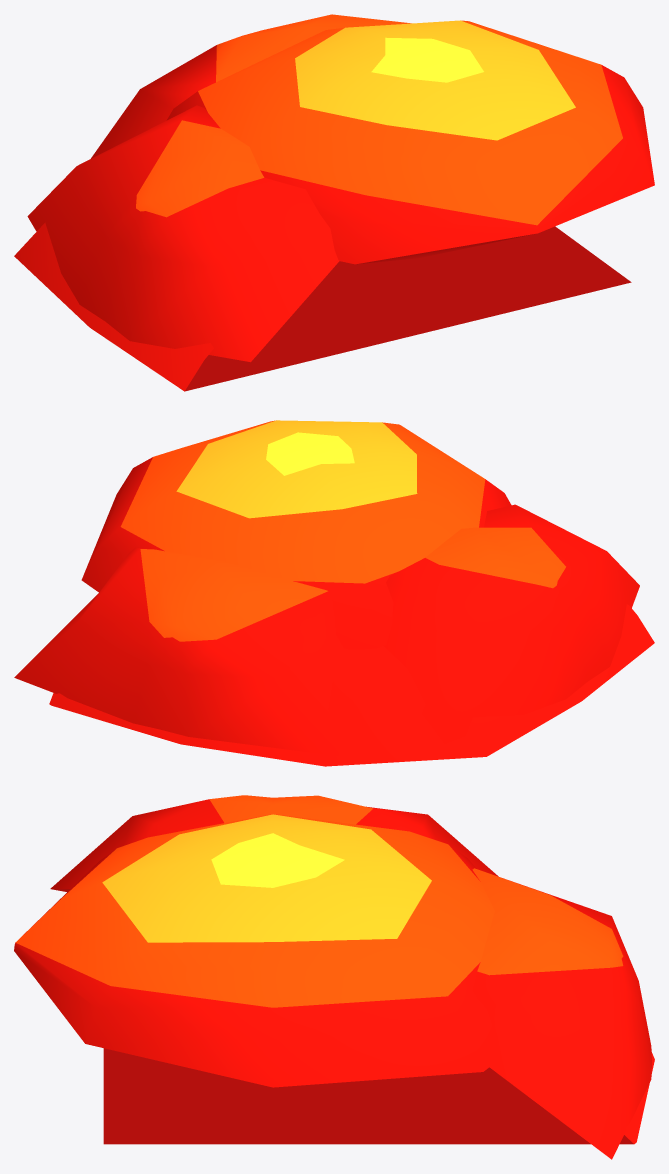
Rendered from shot_zflame_181.glb.
3 renders of one model, top to bottom at view 1: azimuth 30°, elevation 25°; view 2: azimuth 150°, elevation 25°; view 3: azimuth 270°, elevation 25°, orthographic. The views are drawn at different scales.
Parts seen in each view (by area): view 1: zflame_9_billow0_b181, zflame_9_billow3_b181, zflame_9_bed_b181, zflame_9_billow2_b181; view 2: zflame_9_billow0_b181, zflame_9_billow2_b181, zflame_9_billow3_b181, zflame_9_bed_b181; view 3: zflame_9_billow0_b181, zflame_9_billow2_b181, zflame_9_bed_b181, zflame_9_billow3_b181.
Part boxes in pixels (box(x1,y1,x2,y2)): zflame_9_billow0_b181: box(166, 20, 654, 264); zflame_9_billow3_b181: box(27, 105, 339, 362); zflame_9_bed_b181: box(14, 222, 631, 391); zflame_9_billow2_b181: box(91, 14, 411, 158); zflame_9_billow0_b181: box(81, 420, 511, 649); zflame_9_billow2_b181: box(14, 547, 343, 755); zflame_9_billow3_b181: box(384, 504, 639, 744); zflame_9_bed_b181: box(49, 604, 654, 766); zflame_9_billow0_b181: box(14, 814, 498, 1087); zflame_9_billow2_b181: box(472, 868, 651, 1159); zflame_9_bed_b181: box(103, 1048, 654, 1144); zflame_9_billow3_b181: box(50, 795, 498, 891).
Size of the model in its own units: 6.02 by 2.12 by 5.67.
